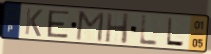E: (46, 9, 71, 40)
H: (104, 13, 131, 46)
K: (23, 7, 45, 38)
L: (138, 14, 160, 47), (164, 16, 185, 48)
M: (74, 10, 106, 44)
